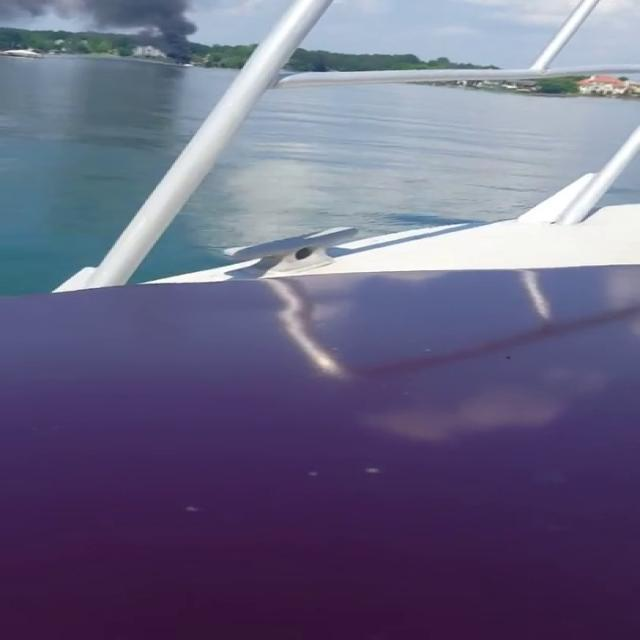Smoke: (0, 0, 211, 50)
